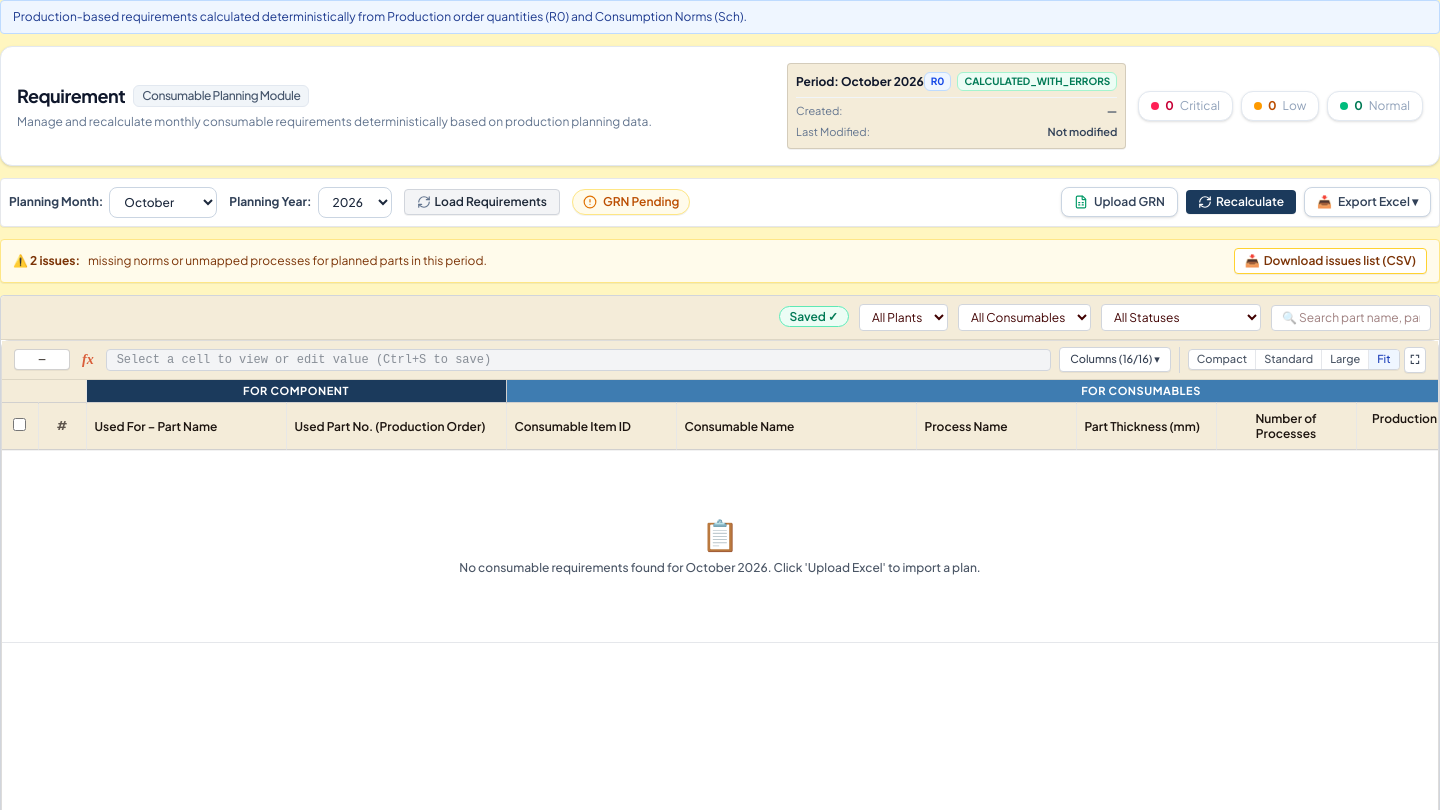
an issues download error retains the incoming issues banner and allows retry
Expected: the text "⚠️ 2 issues:" is shown, [13,253,80,269]
What coordinates should you click on to do the following:
click the button "📥 Download issues list (CSV)"
I would click on:
 (1330, 261)
Its box is [1234,248,1427,274].
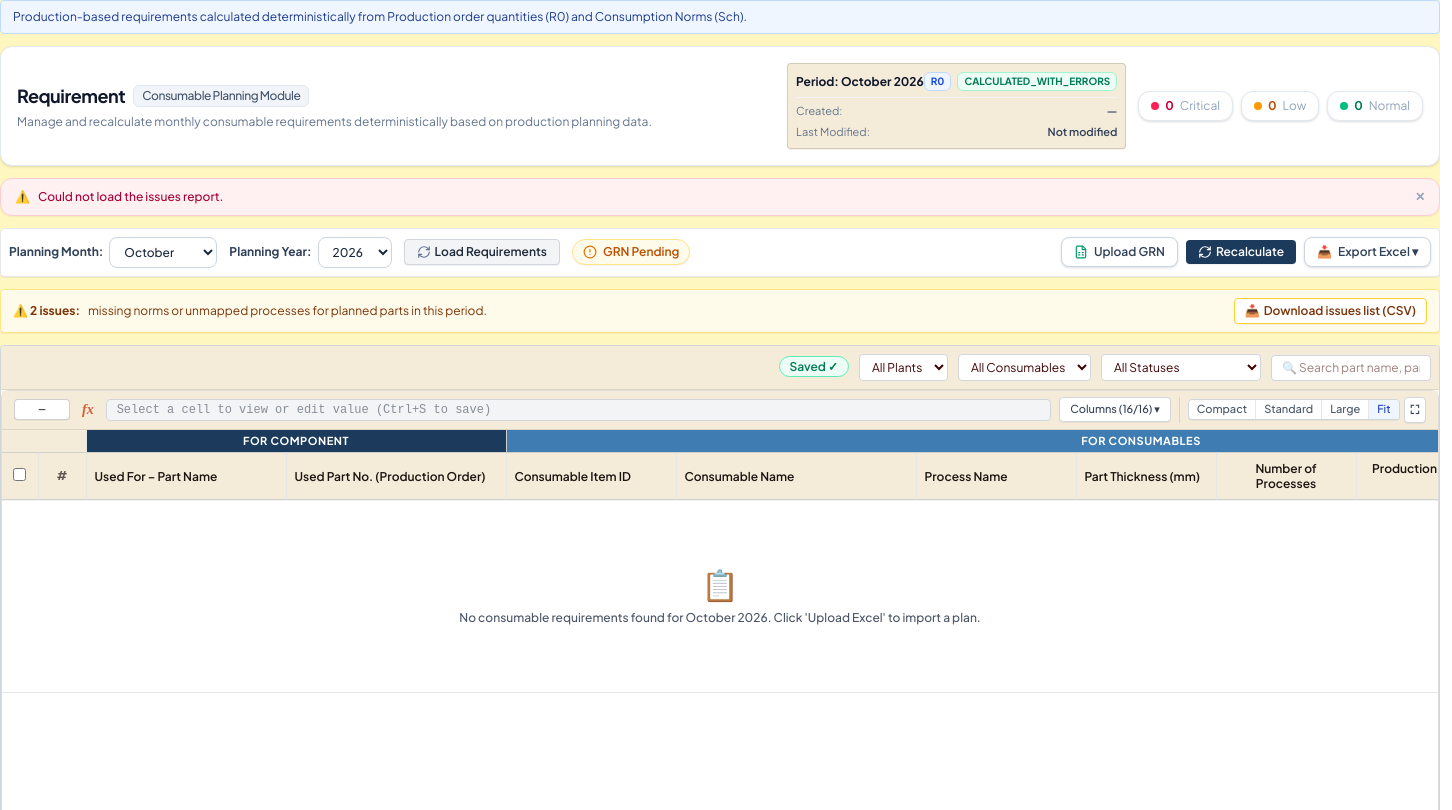
Expected: the button "📥 Download issues list (CSV)" is enabled, [1234,298,1427,324]
Expected: the text "Could not load the issues report." is shown, [38,189,223,205]
